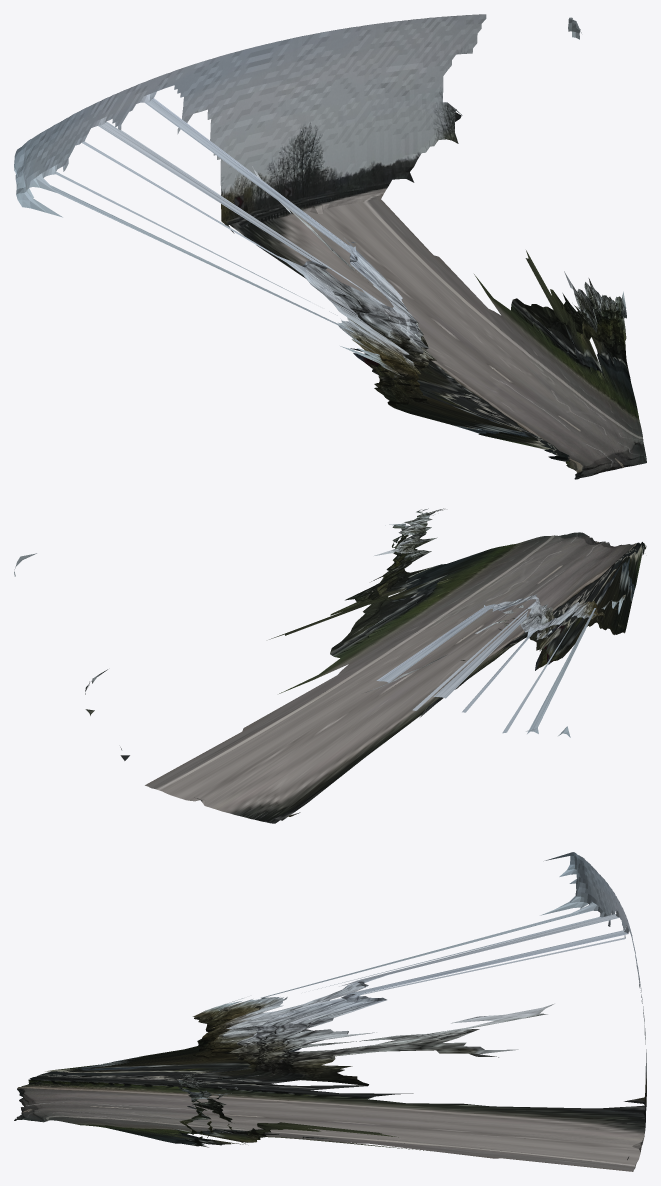
The picture shows the model from 3 angles, top to bottom: view 1: azimuth 30°, elevation 25°; view 2: azimuth 150°, elevation 25°; view 3: azimuth 270°, elevation 25°; orthographic projection. The views are drawn at different scales.
Visible parts, largest first — view 1: defaultobject; view 2: defaultobject; view 3: defaultobject.
Boxes of the visible parts, x1,y1,x2,y2 form: defaultobject: [14, 14, 646, 479]; defaultobject: [14, 508, 646, 823]; defaultobject: [14, 852, 646, 1171].
Size of the model in its own units: 40.41 by 12.64 by 44.61.
Materials: 1 (1 with a texture image).
